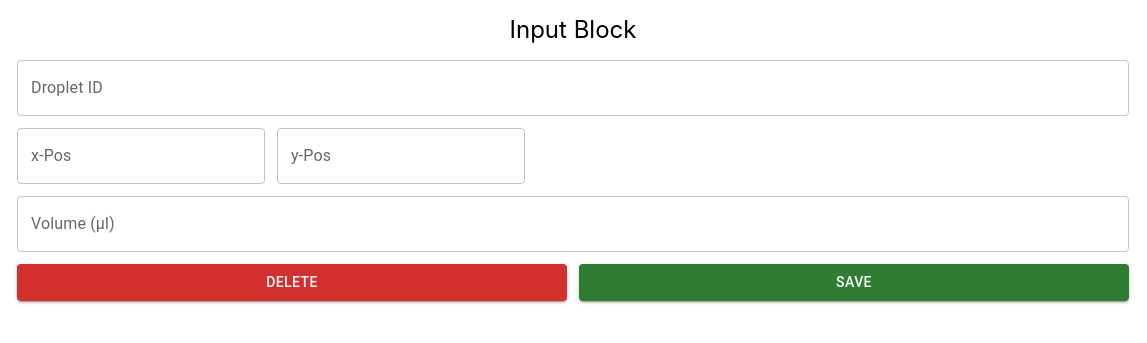
Scenario: InputBlockEditor Component › Should show error message when droplet ID is not unique
This screenshot has width=1147, height=343.
In the field labelled "Droplet ID": [573, 88] box [17,60,1129,116], type "testDrop"
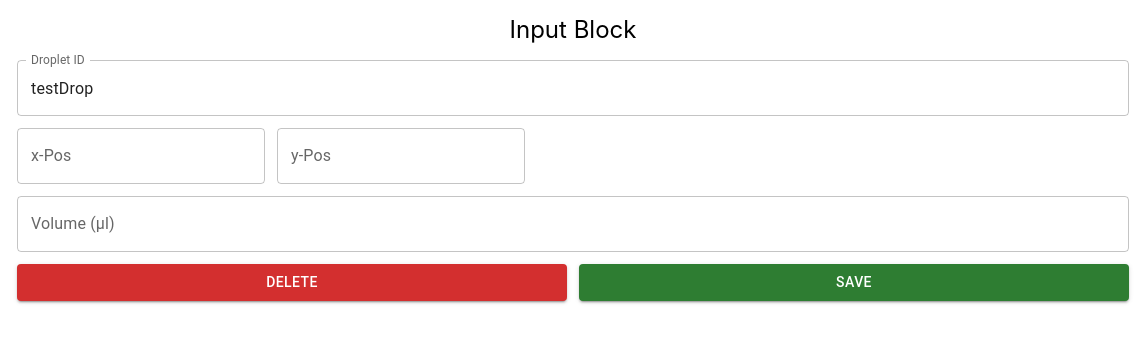
In the field labelled "x-Pos": [141, 156] box [17,128,265,184], type "4"
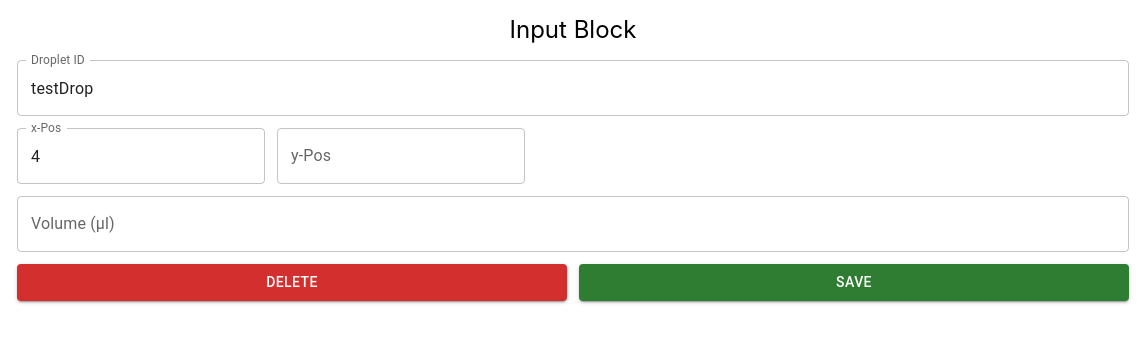
In the field labelled "y-Pos": [401, 156] box [277,128,525,184], type "6"
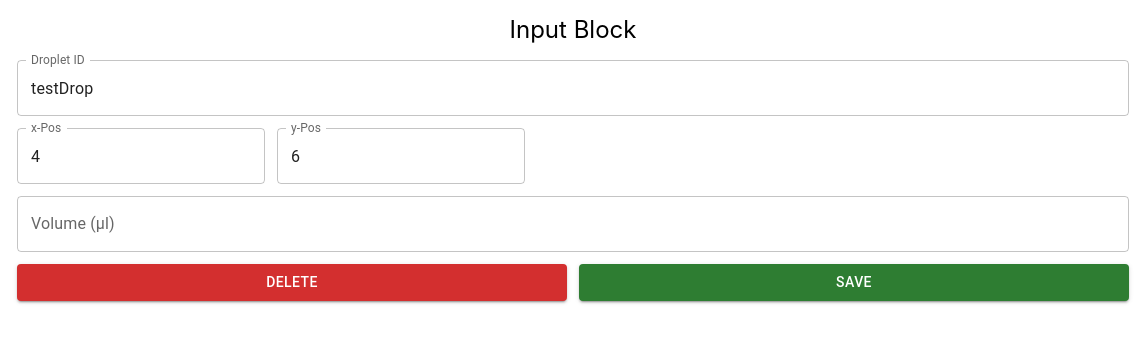
In the field labelled "Volume (µl)": [573, 224] box [17,196,1129,252], type "15"
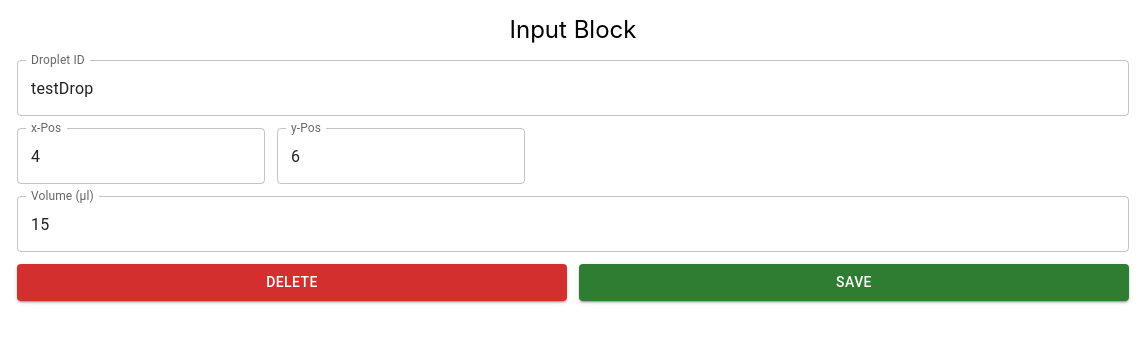
Click the button "Save": [854, 282] box [579,264,1129,300]
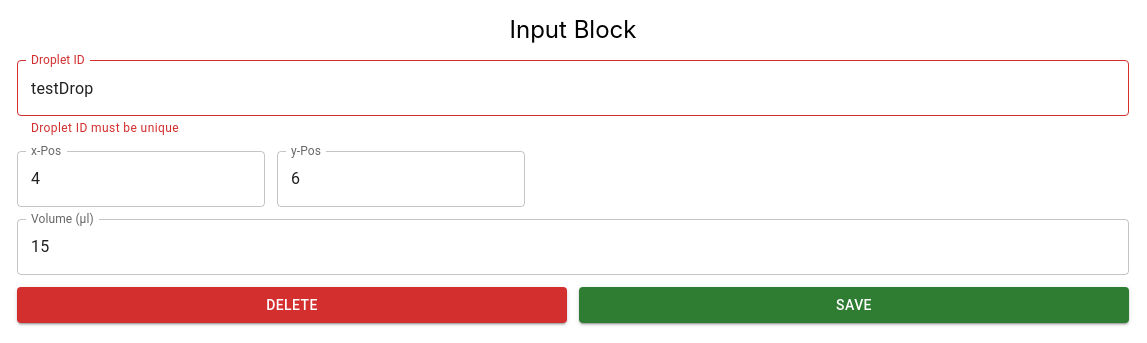
Now the text "Droplet ID must be unique" is shown, box [31,121,179,135]
